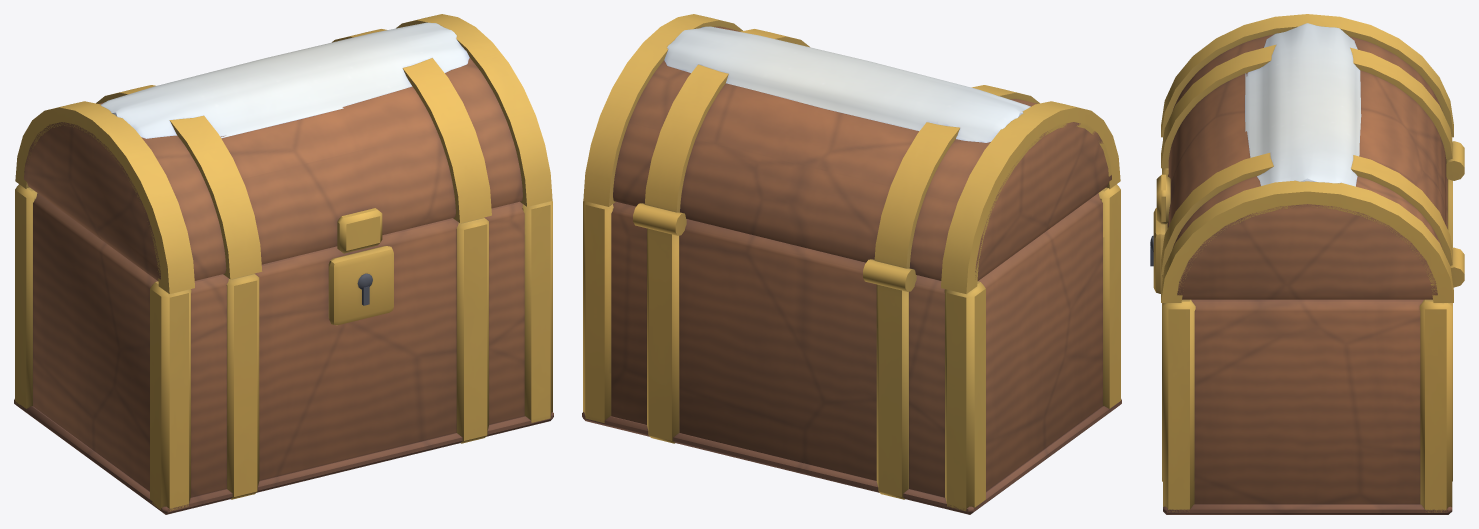
The model's file is FP_P08_SupplyChest.fbx.
3 views of the same model, side by side, from view 1: azimuth 30°, elevation 25°; view 2: azimuth 150°, elevation 25°; view 3: azimuth 270°, elevation 25° (orthographic). The views are drawn at different scales.
Parts seen in each view (by area): view 1: Body, Lid, Lock; view 2: Body, Lid; view 3: Lid, Body, Lock.
Part boxes in pixels (x1=…): Body: x1=14, y1=184, x2=553, y2=514; Lid: x1=15, y1=14, x2=552, y2=293; Lock: x1=328, y1=246, x2=393, y2=325; Body: x1=582, y1=184, x2=1121, y2=514; Lid: x1=583, y1=14, x2=1120, y2=293; Lid: x1=1156, y1=14, x2=1453, y2=302; Body: x1=1162, y1=137, x2=1464, y2=514; Lock: x1=1150, y1=208, x2=1167, y2=293.
Size of the model in its own units: 0.92 by 0.7768 by 0.6738.
